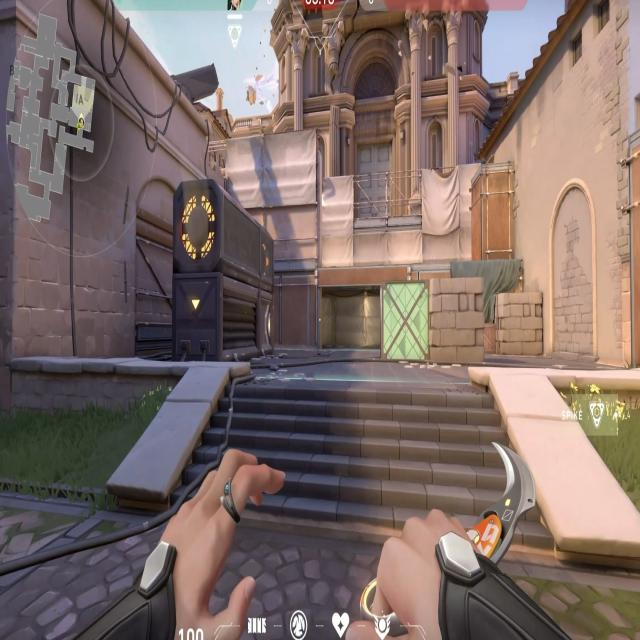A_Heaven_Box: (464, 159, 521, 261)
A_Heaven_Wall: (240, 114, 333, 272)
A_Hell: (313, 260, 383, 354)
A_Site_Box: (375, 272, 491, 370)
